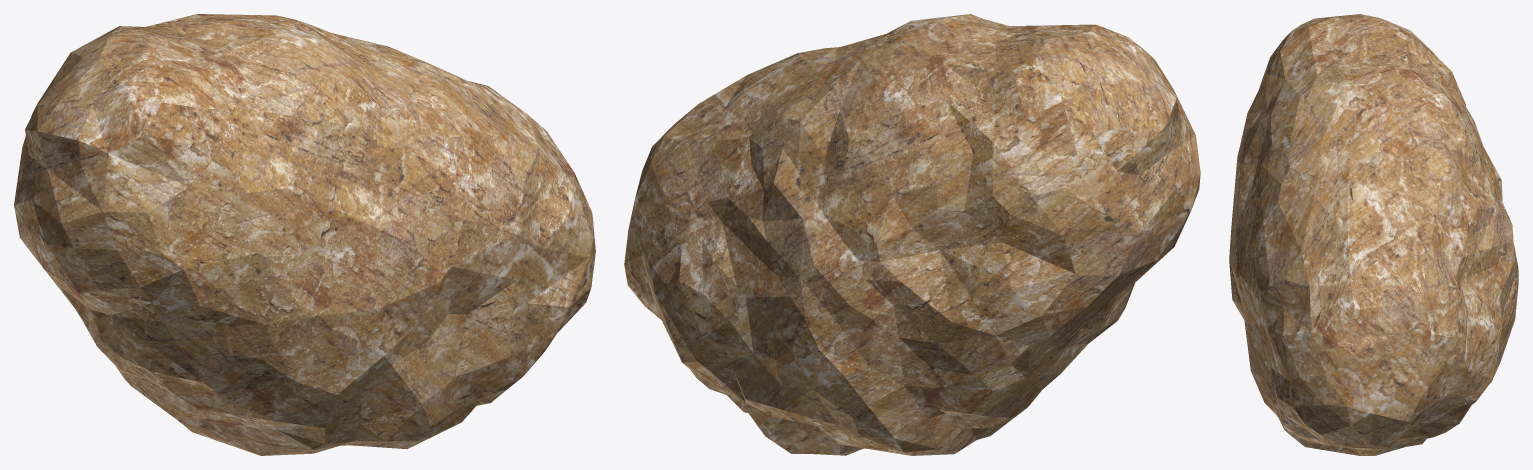
File: Asteroid001.obj
The picture shows the model from 3 angles, left to right: view 1: azimuth 30°, elevation 25°; view 2: azimuth 150°, elevation 25°; view 3: azimuth 270°, elevation 25°; orthographic projection. The views are drawn at different scales.
Parts seen in each view (by area): view 1: Cube_Cube.001; view 2: Cube_Cube.001; view 3: Cube_Cube.001.
Boxes of the visible parts, x1,y1,x2,y2 form: Cube_Cube.001: (14,14,595,455); Cube_Cube.001: (624,14,1200,455); Cube_Cube.001: (1229,14,1518,455).
Size of the model in its own units: 4.1 by 3.23 by 2.48.
Materials: 1 (1 with a texture image).
